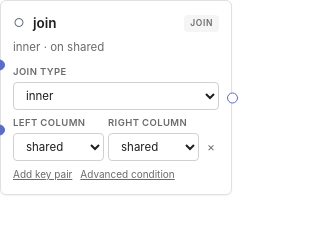
Test: Join card — join types come from the backend spec (UX-05) › exposes an effective on predicate in Advanced and clears hidden on at first edit
Click the button "Advanced condition".
click(128, 174)  # box 80,167 -> 175,182
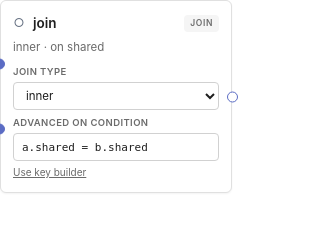
Result: the field labelled "advanced ON condition" holds "a.shared = b.shared"
Clear the field labelled "advanced ON condition" at (116, 147), box 13,133 -> 219,161
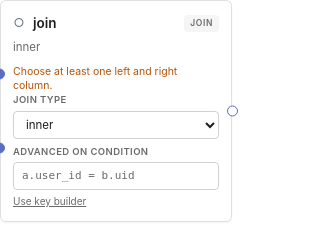
Type "a.shared = b.shared OR a.region = b.region_id" into the field labelled "advanced ON condition".
click(116, 176); type("a.shared = b.shared OR a.region = b.region_id")  # box 13,162 -> 219,190
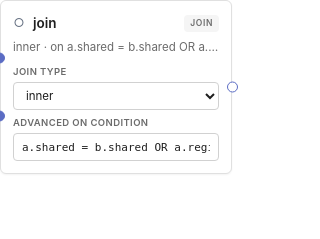
Replace the text in the field labelled "advanced ON condition" with "a.shared = b.shared" at (116, 147), box 13,133 -> 219,161
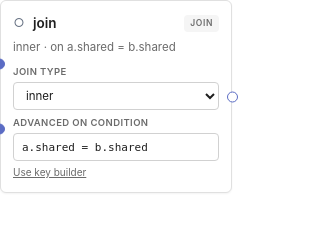
Click the button "Use key builder".
click(50, 172)  # box 13,165 -> 86,180
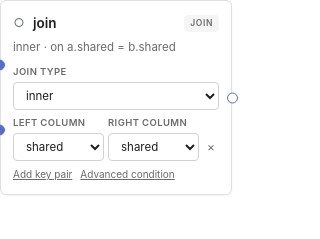
Result: the dropdown named "Left key 1" shows "shared" at 13,133 -> 104,161
Result: the dropdown named "Right key 1" shows "shared" at 108,133 -> 199,161
